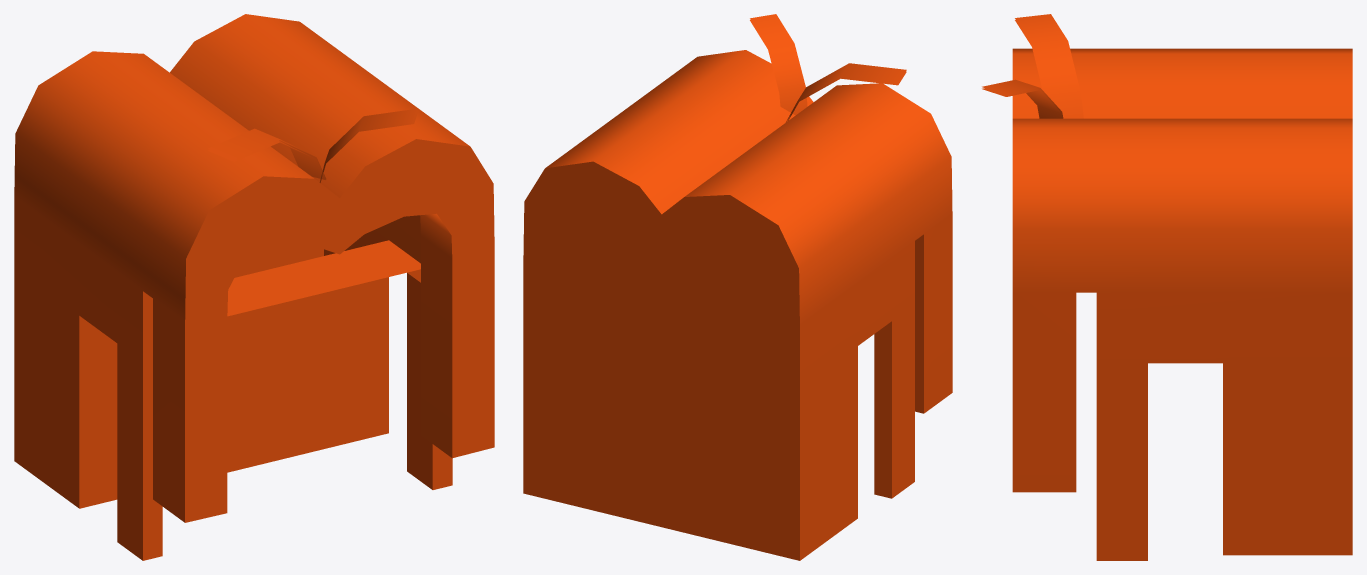
The model's file is Hair Female 02.FBX.
The picture shows the model from 3 angles, left to right: view 1: azimuth 30°, elevation 25°; view 2: azimuth 150°, elevation 25°; view 3: azimuth 270°, elevation 25°; orthographic projection. The views are drawn at different scales.
Visible parts, largest first — view 1: Hair Female 02; view 2: Hair Female 02; view 3: Hair Female 02.
Boxes of the visible parts, x1,y1,x2,y2 form: Hair Female 02: (14,14,494,560); Hair Female 02: (523,14,952,560); Hair Female 02: (982,14,1352,560).
Size of the model in its own units: 55.93 by 74.17 by 58.41.
1 material, 1 textured.
